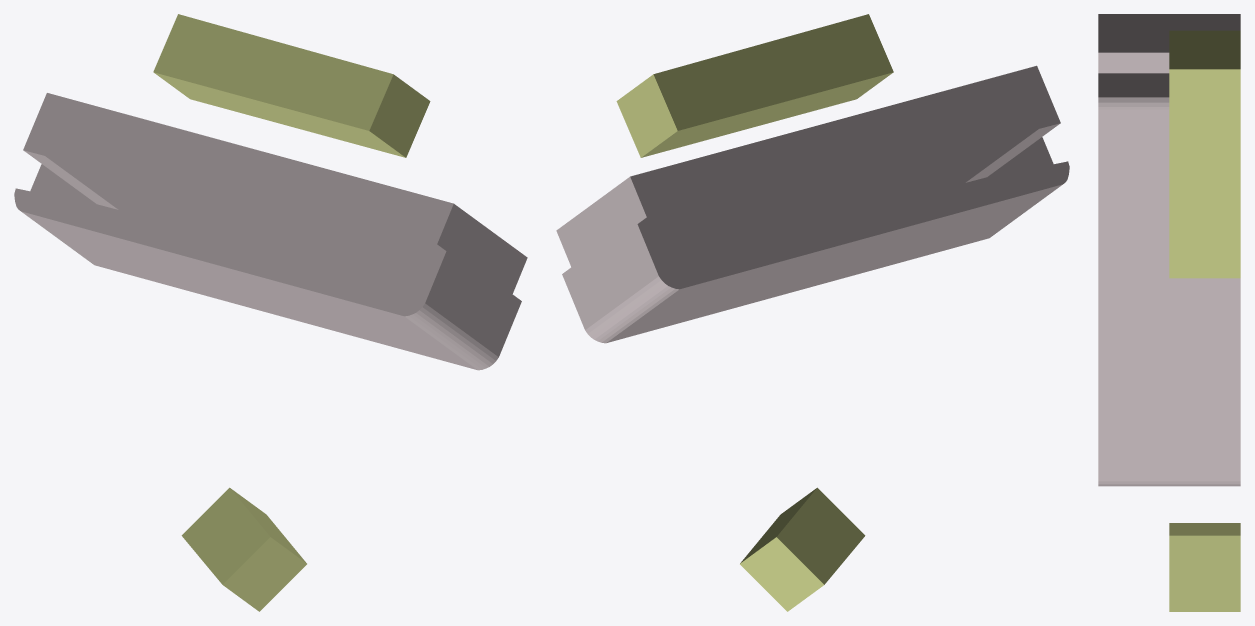
The picture shows the model from 3 angles, left to right: view 1: azimuth 30°, elevation 25°; view 2: azimuth 150°, elevation 25°; view 3: azimuth 270°, elevation 25°; orthographic projection. The views are drawn at different scales.
Visible parts, largest first — view 1: 0_1_3_2_2_1_3; view 2: 0_1_3_2_2_1_3; view 3: 0_1_3_2_2_1_3.
Boxes of the visible parts, x1,y1,x2,y2 form: 0_1_3_2_2_1_3: [14, 14, 527, 611]; 0_1_3_2_2_1_3: [556, 14, 1069, 611]; 0_1_3_2_2_1_3: [1098, 14, 1240, 611].
Bounding box in the file's own units: 41.24 × 52.16 × 12.
